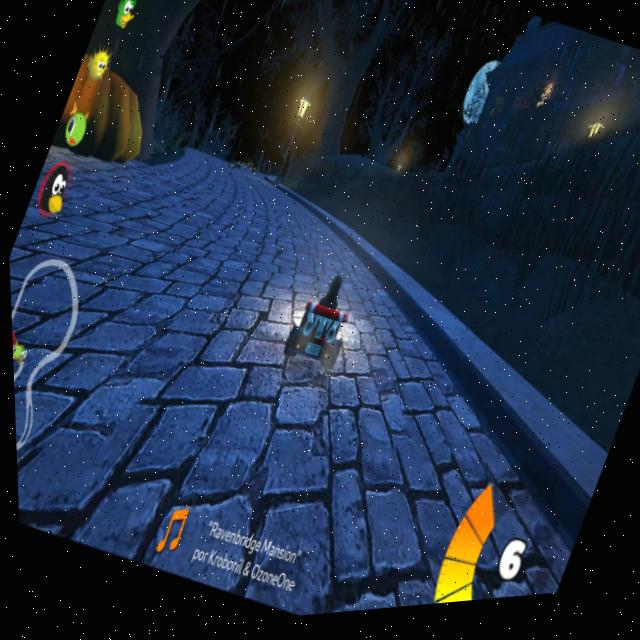player_kart: (269, 269, 368, 389)
track: (60, 150, 334, 512)
